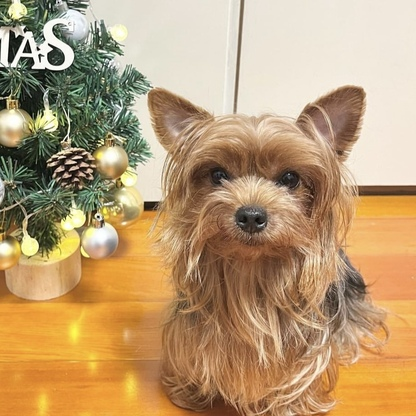yorkshire: (147, 86, 393, 416)
